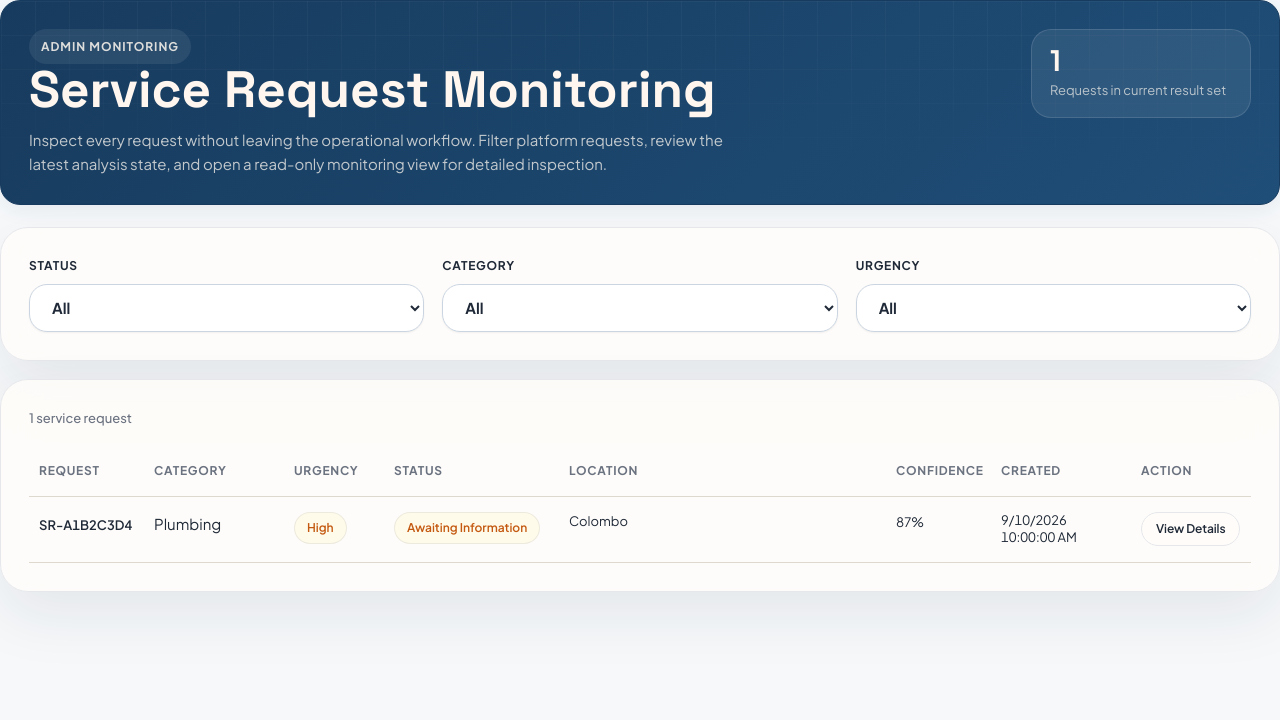
Read-only authoritative request details › fetches detail and displays complete description, ID, overview and coordinates including zero
Step 1. Click the button "View Details" → (1191, 529), box 1141,512 -> 1240,546
(page scrolled)
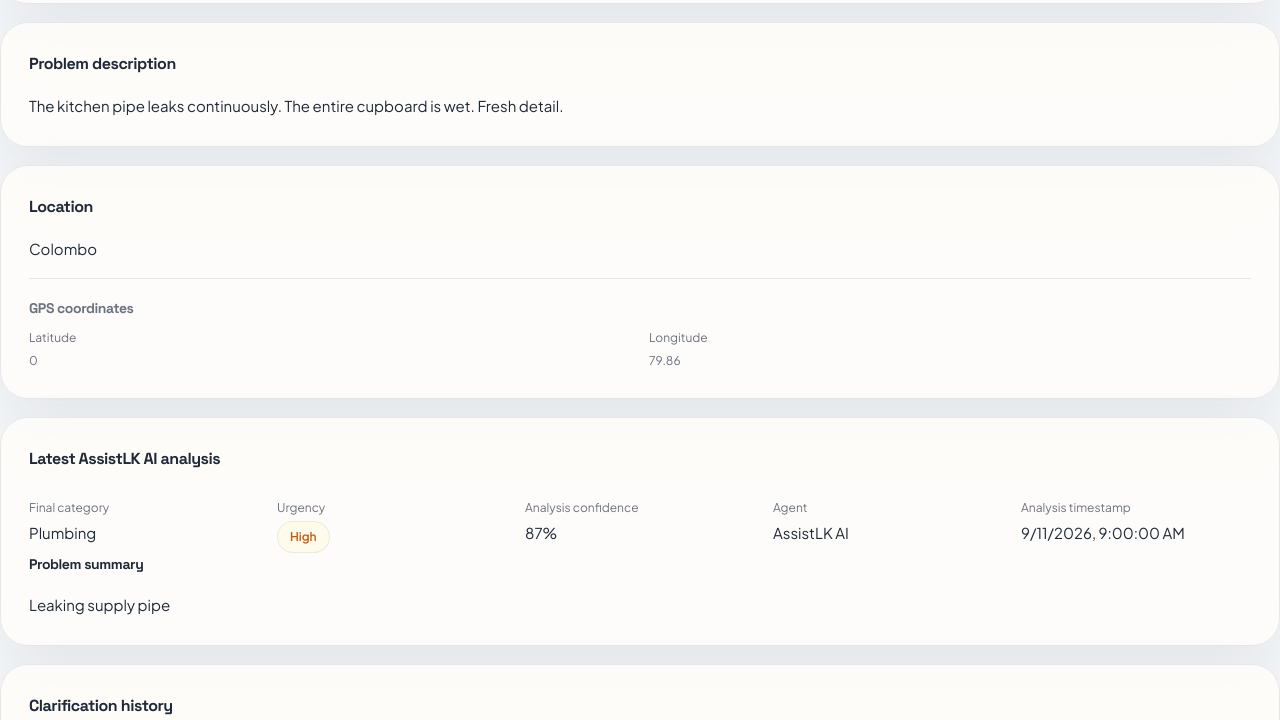
expect the text "Latitude" is shown: met, box 29,330 -> 76,345
expect the text "Longitude" is shown: met, box 649,330 -> 708,345
expect the text "0" is shown: met, box 29,353 -> 38,368
